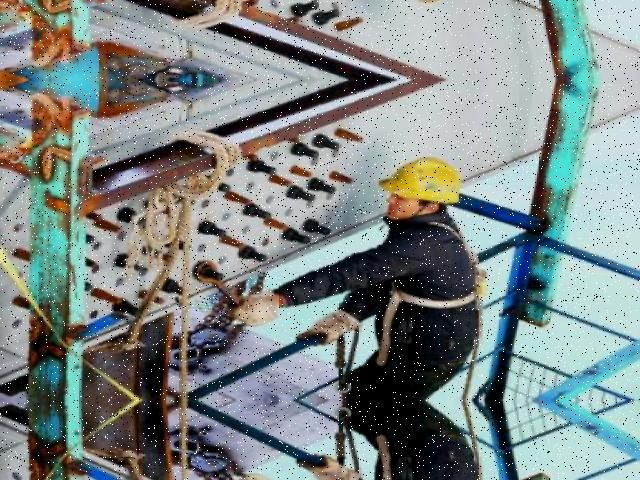Helmet: (374, 152, 468, 211)
